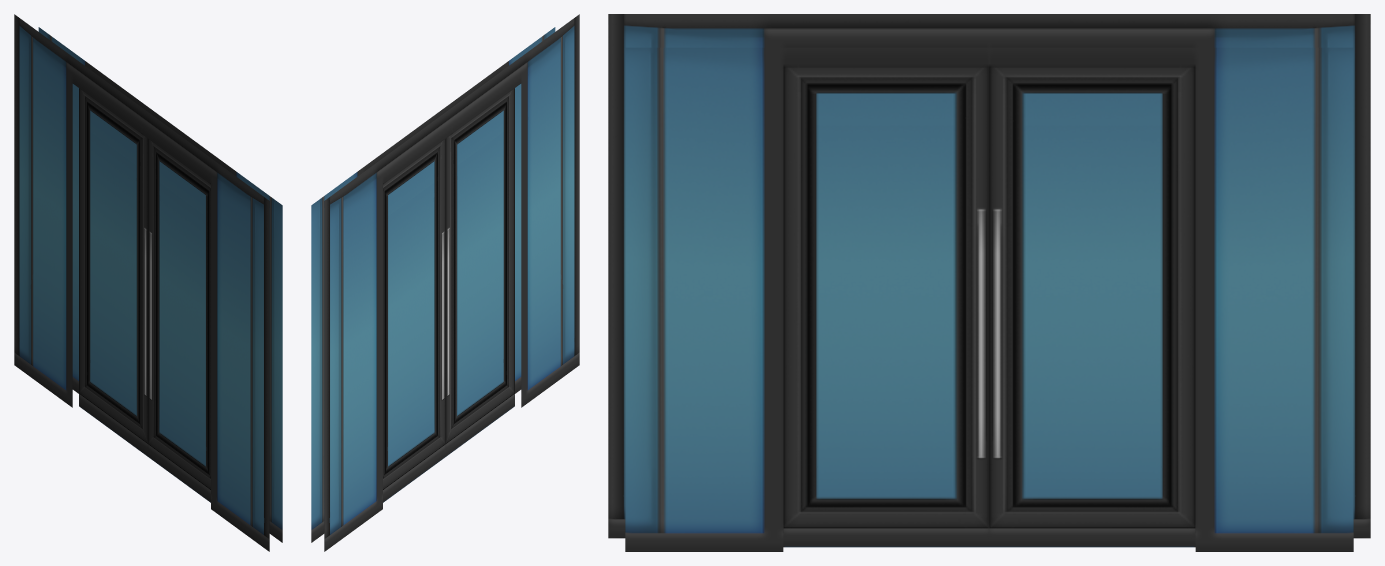
File: Porch_Door_Glass.fbx
The picture shows the model from 3 angles, left to right: view 1: azimuth 30°, elevation 25°; view 2: azimuth 150°, elevation 25°; view 3: azimuth 270°, elevation 25°; orthographic projection. The views are drawn at different scales.
Visible parts, largest first — view 1: Porch_Door_011_Glass, Porch_Door_011_Flap_Left_Glass, Porch_Door_011_Flap_Right_Glass; view 2: Porch_Door_011_Glass, Porch_Door_011_Flap_Right_Glass, Porch_Door_011_Flap_Left_Glass; view 3: Porch_Door_011_Glass, Porch_Door_011_Flap_Left_Glass, Porch_Door_011_Flap_Right_Glass.
Part boxes in pixels (box(x1,y1,x2,y2)): Porch_Door_011_Glass: box(14, 14, 282, 551); Porch_Door_011_Flap_Left_Glass: box(79, 88, 148, 456); Porch_Door_011_Flap_Right_Glass: box(148, 139, 210, 502); Porch_Door_011_Glass: box(311, 14, 579, 551); Porch_Door_011_Flap_Right_Glass: box(446, 88, 514, 456); Porch_Door_011_Flap_Left_Glass: box(383, 139, 445, 502); Porch_Door_011_Glass: box(608, 14, 1370, 551); Porch_Door_011_Flap_Left_Glass: box(988, 67, 1195, 547); Porch_Door_011_Flap_Right_Glass: box(783, 67, 988, 547).
Size of the model in its own units: 14.45 by 256 by 337.
